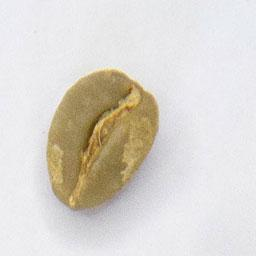longberry: (42, 65, 162, 212)
